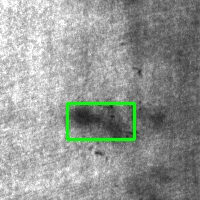patches: (67, 103, 134, 139)
